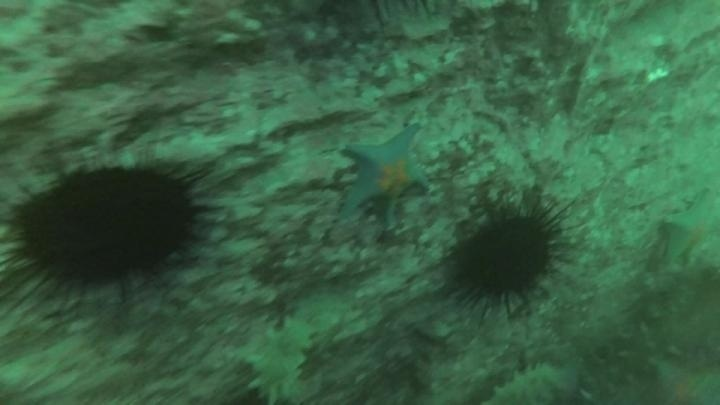echinus: (1, 154, 215, 305), (442, 192, 574, 319)
holothurian: (241, 309, 323, 405), (485, 359, 584, 405)
starfish: (335, 121, 432, 231), (660, 186, 720, 271), (647, 353, 719, 405)
